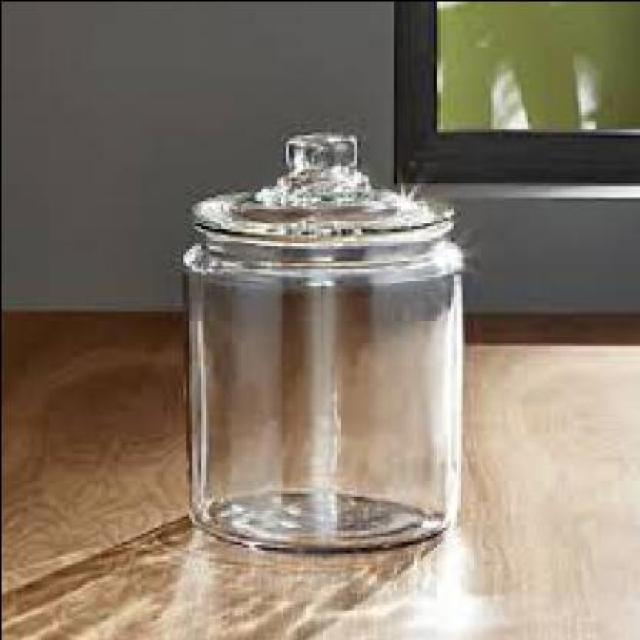GLASS: (182, 128, 464, 549)
